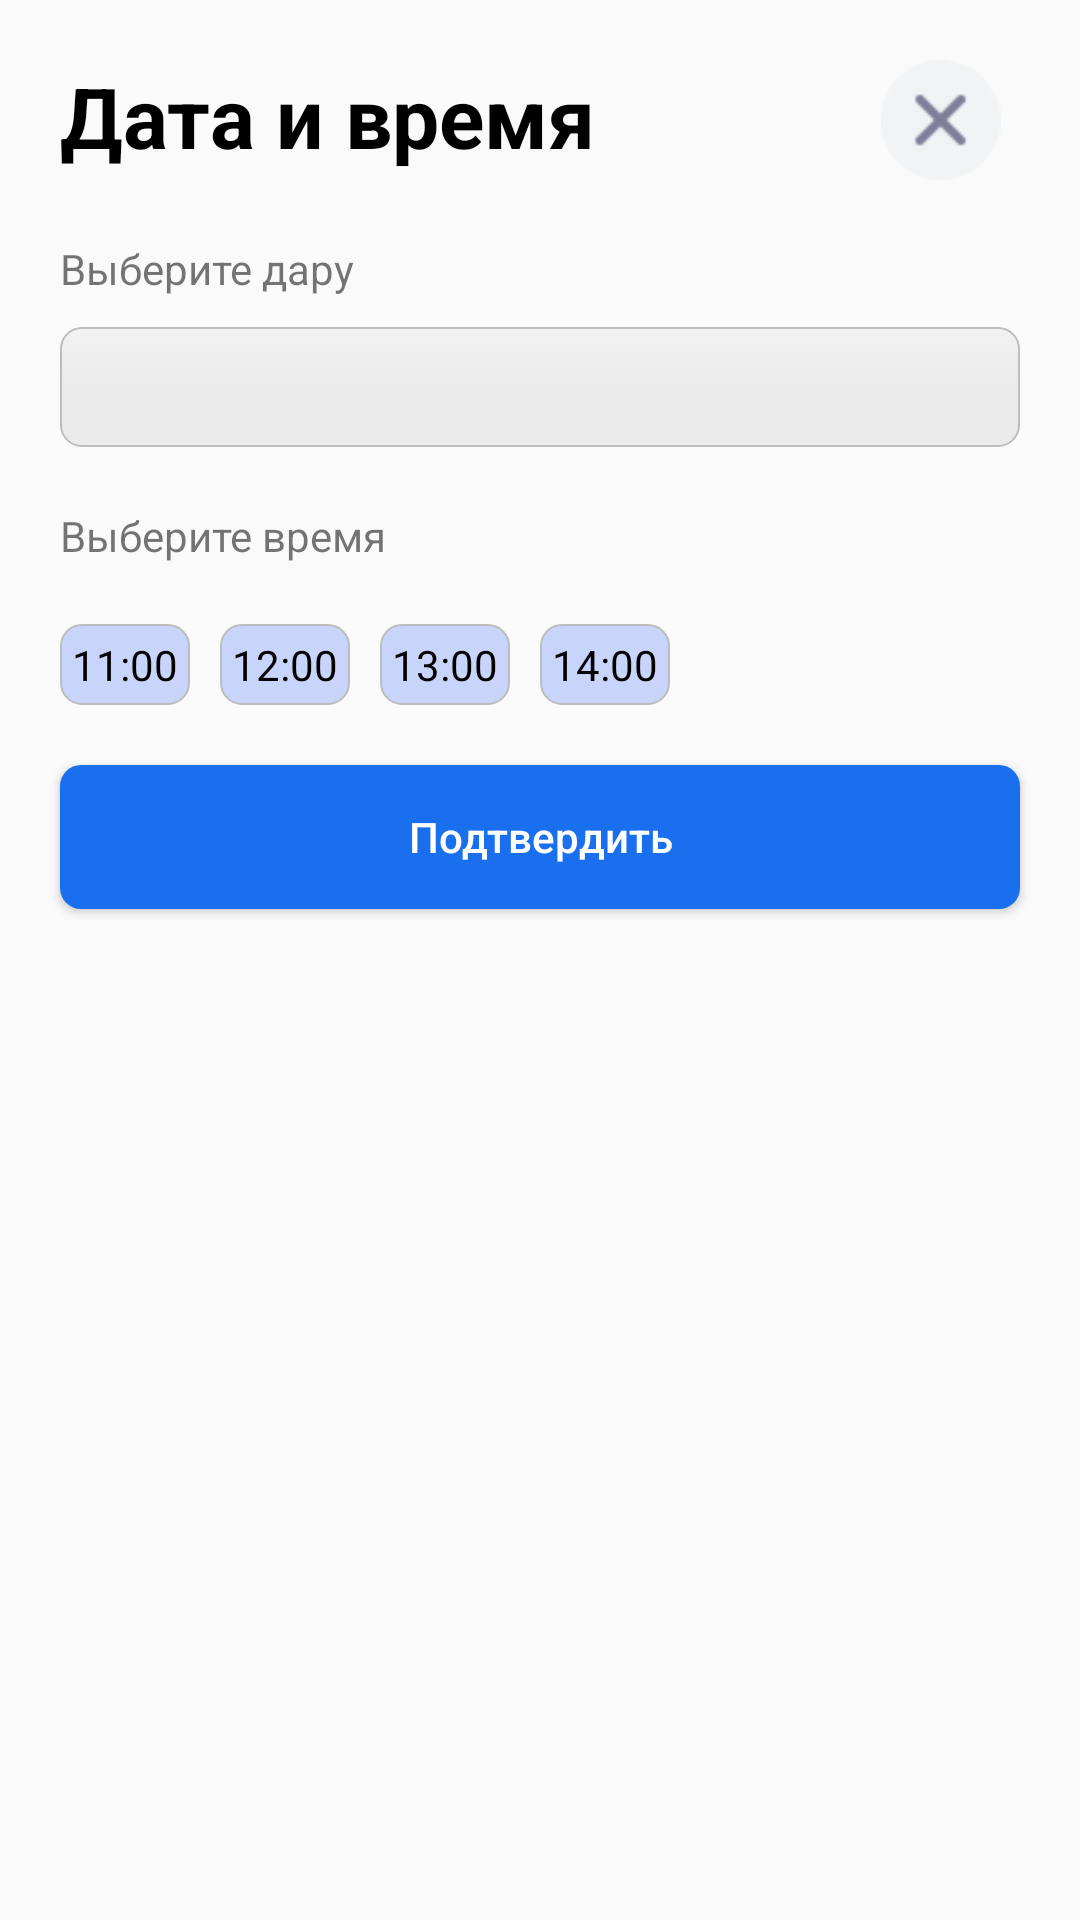

Where icons sit on this 1080w x 1920h app screen, as (x1, y1, x2, y2):
close: (915, 94, 966, 146)
